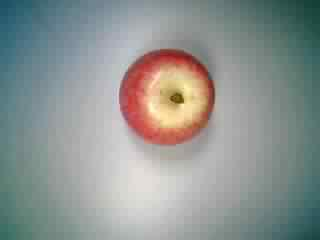apple: (116, 44, 220, 148)
